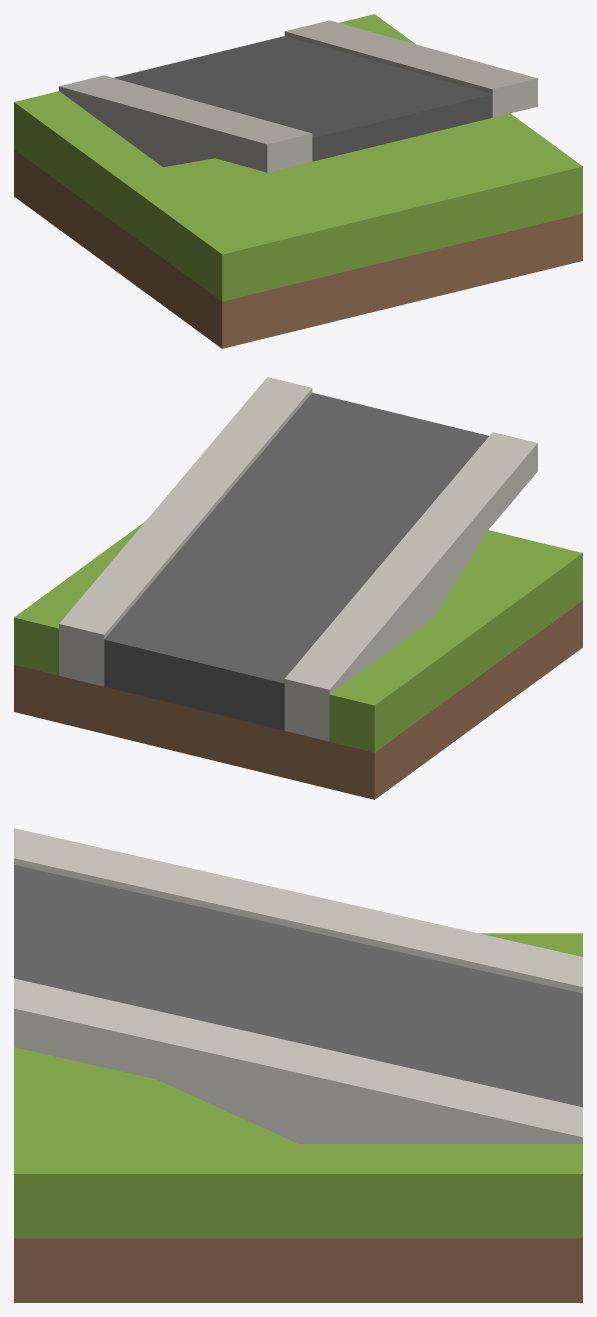
File: road-bridge-ramp.obj
3 views of the same model, one above another, from view 1: azimuth 30°, elevation 25°; view 2: azimuth 150°, elevation 25°; view 3: azimuth 270°, elevation 25° (orthographic). The views are drawn at different scales.
Visible parts, largest first — view 1: road-bridge-ramp_Cube.200; view 2: road-bridge-ramp_Cube.200; view 3: road-bridge-ramp_Cube.200.
Boxes of the visible parts, box(x1,y1,x2,y2) form: road-bridge-ramp_Cube.200: box(14, 14, 582, 348); road-bridge-ramp_Cube.200: box(14, 377, 582, 799); road-bridge-ramp_Cube.200: box(14, 828, 582, 1302).
Size of the model in its own units: 8 by 4.1 by 8.
1 material, 1 textured.
